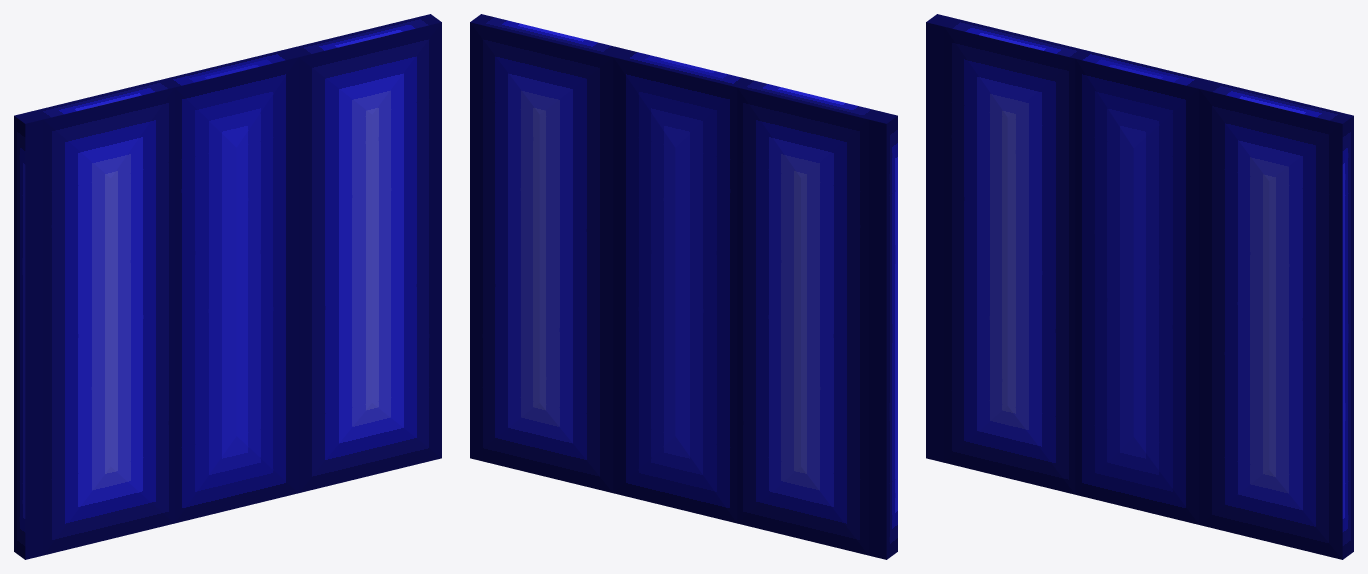
The model's file is bridgewall1.fbx.
The picture shows the model from 3 angles, left to right: view 1: azimuth 30°, elevation 25°; view 2: azimuth 150°, elevation 25°; view 3: azimuth 330°, elevation 25°; orthographic projection.
Parts seen in each view (by area): view 1: bridgewall1_mesh; view 2: bridgewall1_mesh; view 3: bridgewall1_mesh.
Part boxes in pixels (bbox=[...]): bridgewall1_mesh: bbox=[14, 14, 441, 559]; bridgewall1_mesh: bbox=[470, 14, 897, 559]; bridgewall1_mesh: bbox=[926, 14, 1353, 559].
Size of the model in its own units: 256 by 256 by 16.
